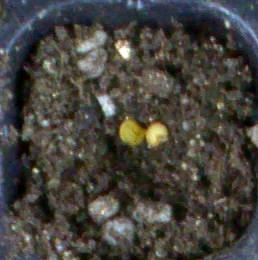pepper seed: (59, 46, 230, 196), (45, 44, 191, 192)
